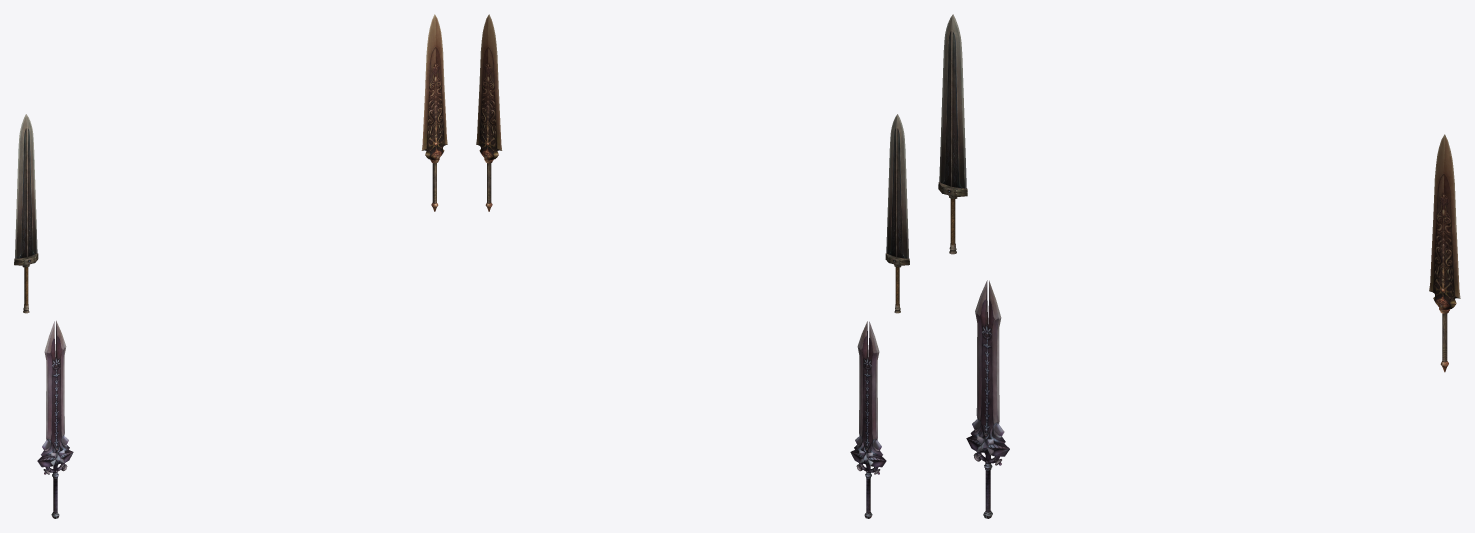
File: SimpleSwords.fbx
The picture shows the model from 3 angles, left to right: view 1: azimuth 30°, elevation 25°; view 2: azimuth 150°, elevation 25°; view 3: azimuth 330°, elevation 25°; orthographic projection. The views are drawn at different scales.
Parts seen in each view (by area): view 1: TwoHand10_SM, Twohand01_SM, Twohand07_SM; view 2: TwoHand10_SM, Twohand01_SM, Twohand07_SM; view 3: TwoHand10_SM, Twohand01_SM, Twohand07_SM.
Boxes of the visible parts, left/top/right/bottom form: TwoHand10_SM: left=37, top=320, right=73, bottom=518; Twohand01_SM: left=14, top=114, right=38, bottom=313; Twohand07_SM: left=421, top=14, right=447, bottom=211; TwoHand10_SM: left=850, top=321, right=886, bottom=518; Twohand01_SM: left=885, top=114, right=909, bottom=313; Twohand07_SM: left=476, top=14, right=502, bottom=211; TwoHand10_SM: left=966, top=280, right=1009, bottom=518; Twohand01_SM: left=938, top=14, right=967, bottom=254; Twohand07_SM: left=1429, top=134, right=1460, bottom=372.
Bounding box in the file's own units: 149 × 135 × 5.96.
